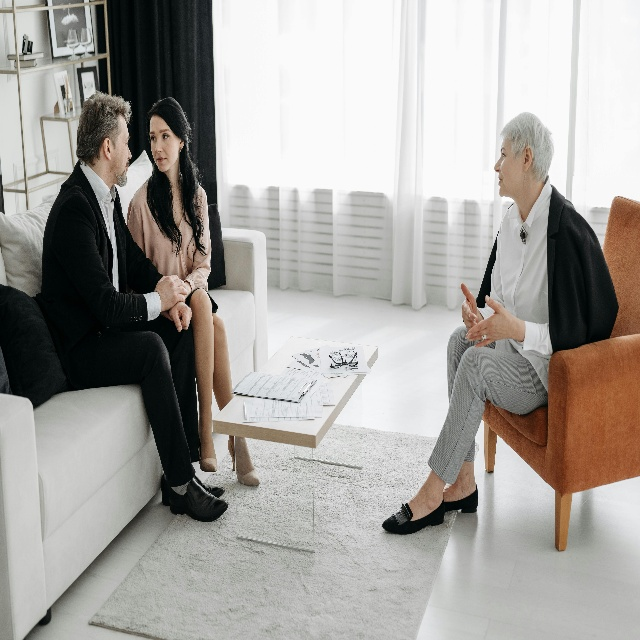Gafas: (328, 349, 358, 369)
Sin_guantes: (464, 295, 516, 349), (155, 273, 187, 311), (461, 282, 480, 333), (169, 300, 192, 331)
